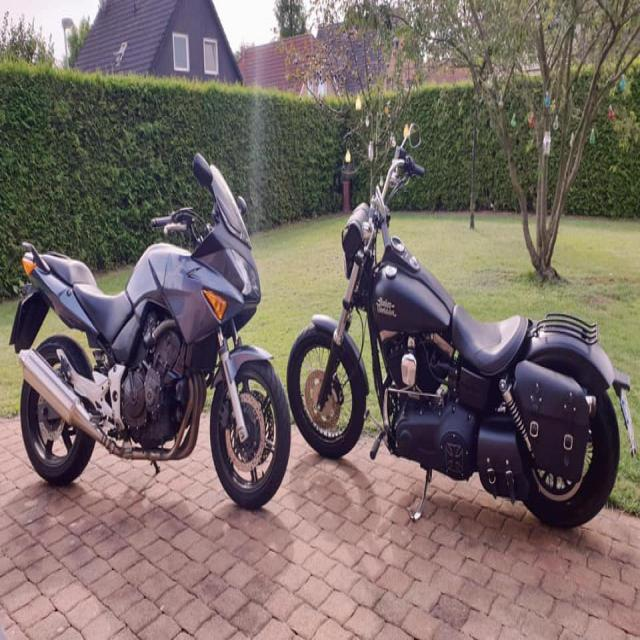Motorcycle: (288, 140, 630, 528), (10, 154, 290, 510)
Tree: (406, 0, 640, 281)
